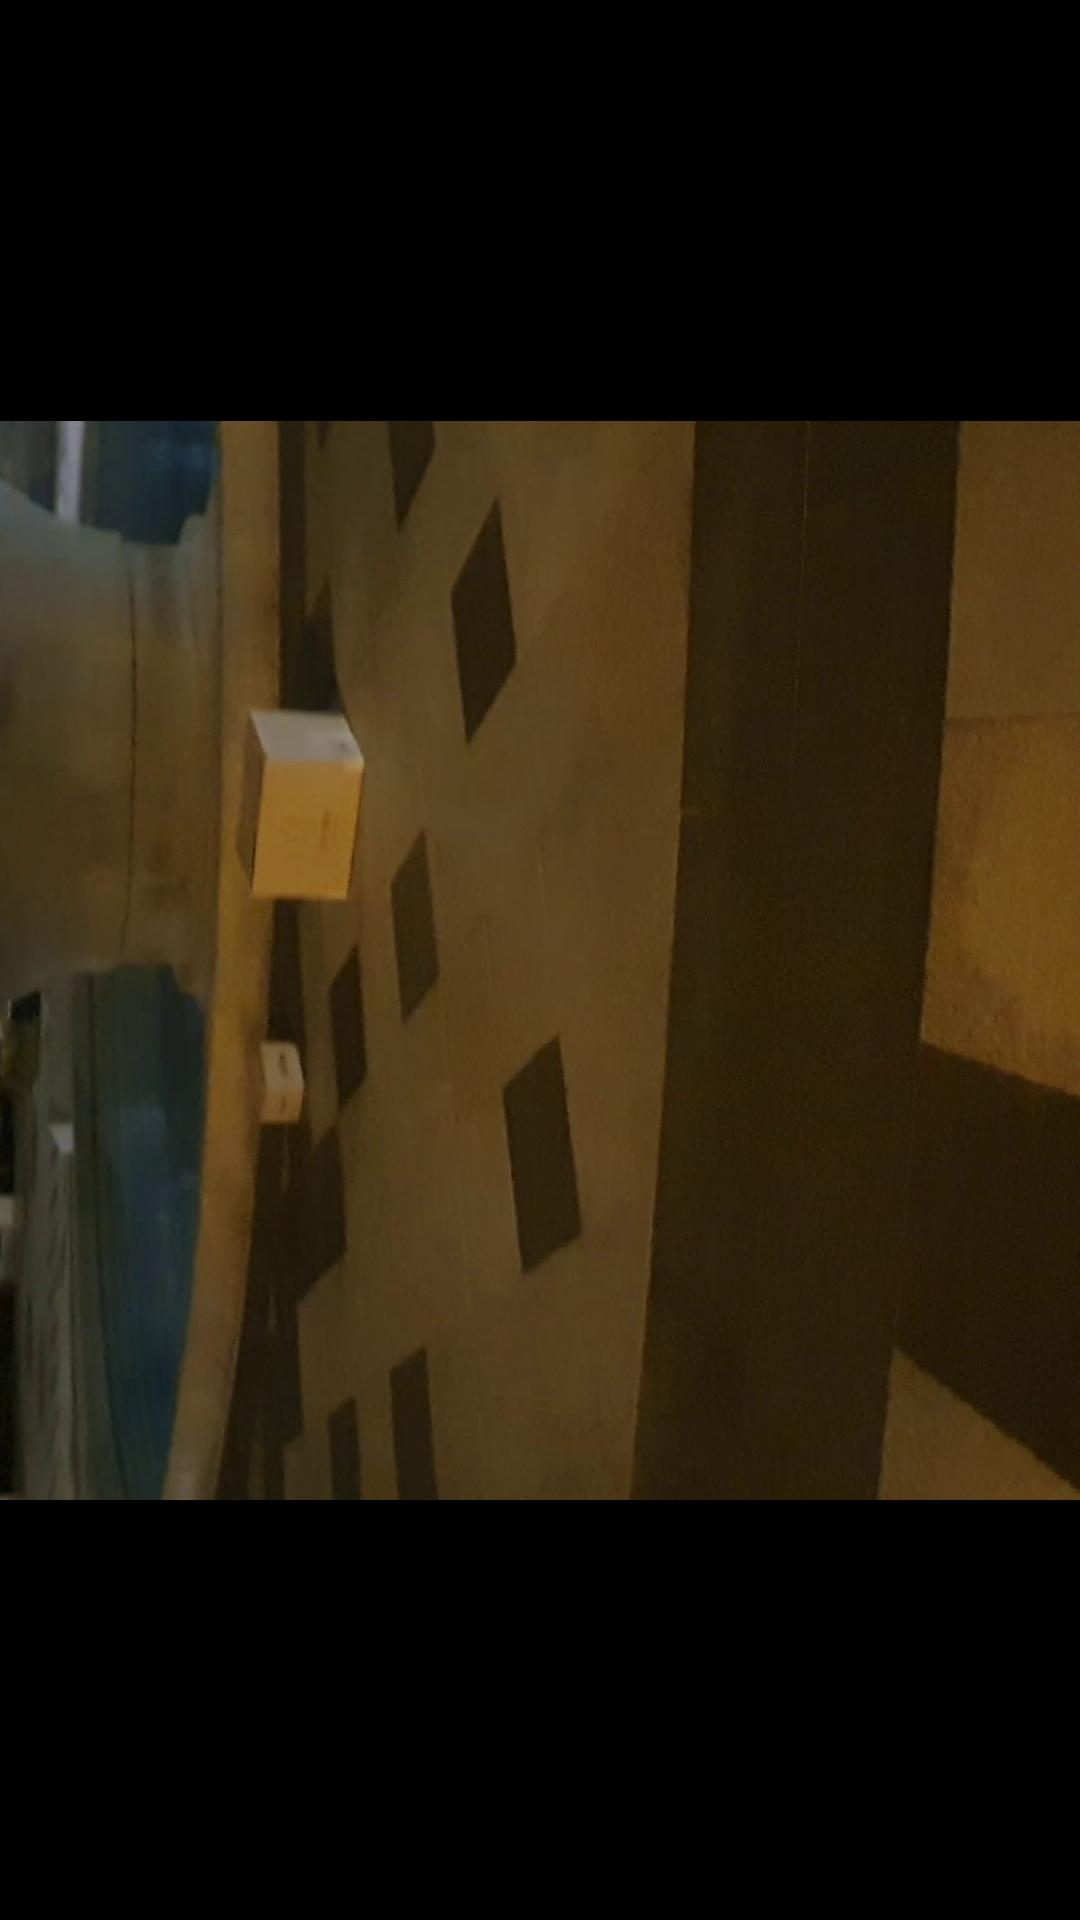Box: (245, 696, 365, 922), (229, 1021, 316, 1134)
